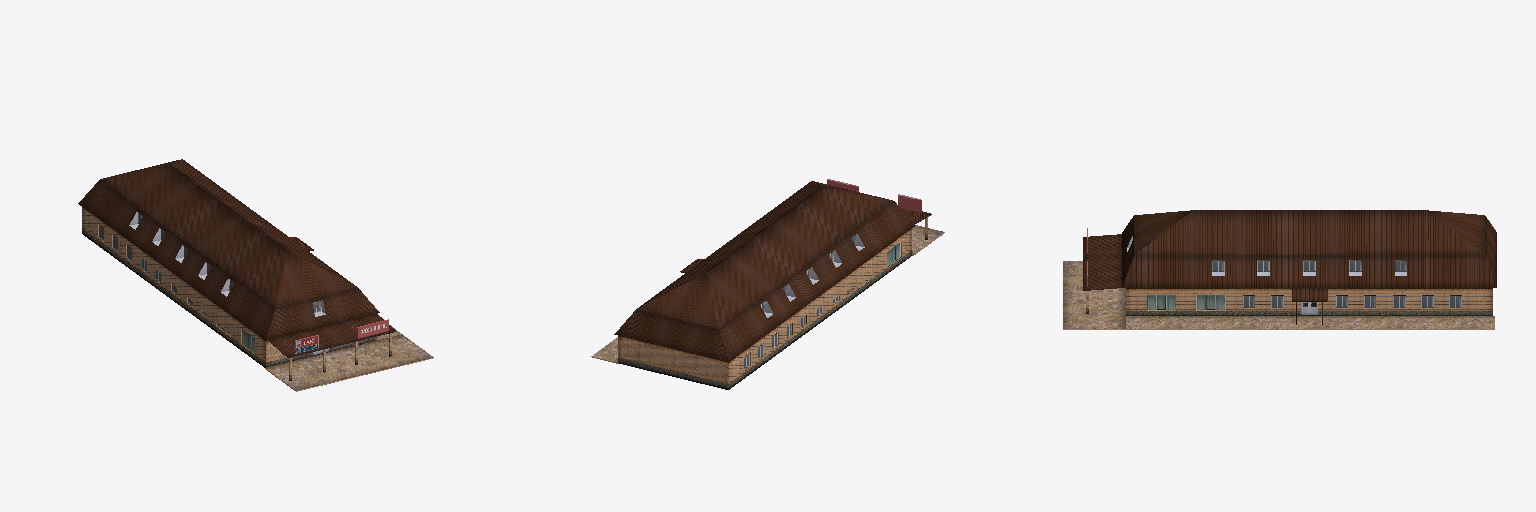
3 renders of one model, left to right at view 1: azimuth 30°, elevation 25°; view 2: azimuth 150°, elevation 25°; view 3: azimuth 270°, elevation 25°, orthographic.
Parts seen in each view (by area): view 1: Box001; view 2: Box001; view 3: Box001.
Part boxes in pixels (left/top/right/bottom): Box001: left=78, top=159, right=433, bottom=391; Box001: left=591, top=179, right=944, bottom=389; Box001: left=1063, top=210, right=1496, bottom=329.
Size of the model in its own units: 595 by 327 by 1611.
Materials: 1 (1 with a texture image).